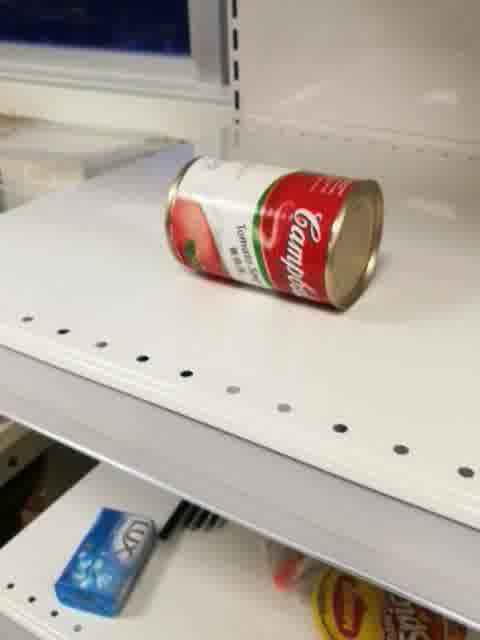tomatosoup: (163, 151, 385, 316)
